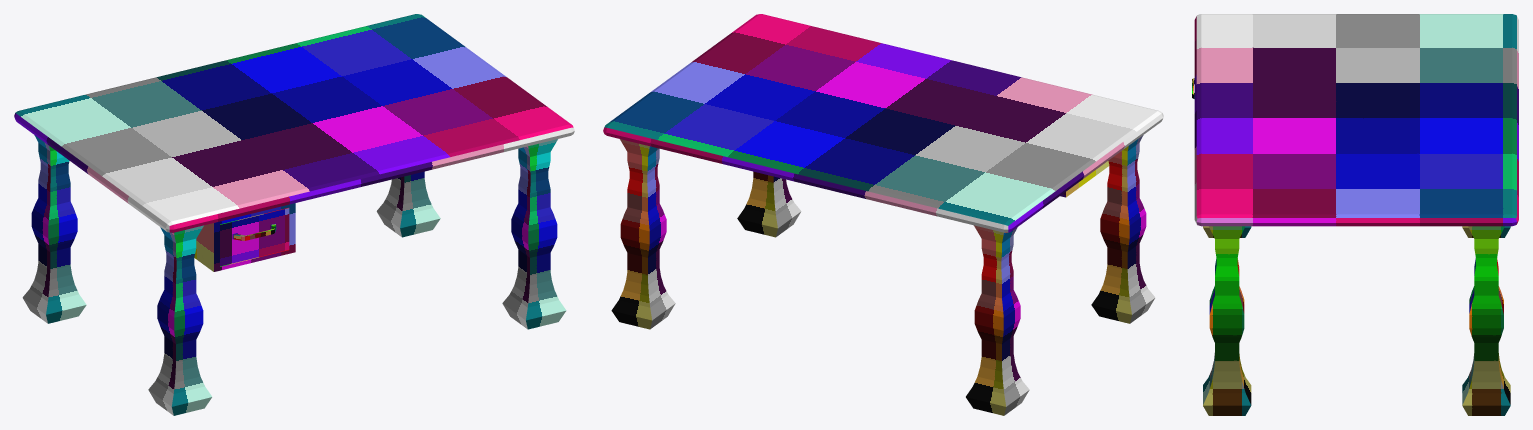
File: Tavolo_Nuovo_UV.fbx
The picture shows the model from 3 angles, left to right: view 1: azimuth 30°, elevation 25°; view 2: azimuth 150°, elevation 25°; view 3: azimuth 270°, elevation 25°; orthographic projection. The views are drawn at different scales.
Parts seen in each view (by area): view 1: Piano, Gamba, Gamba.004, Gamba.002, Cassetto, Gamba.003, Contenitore; view 2: Piano, Gamba.002, Gamba.003, Gamba, Gamba.004; view 3: Piano, Gamba.004, Gamba.003.
Boxes of the visible parts, left/top/right/bottom form: Piano: left=14, top=14, right=574, bottom=232; Gamba: left=148, top=225, right=211, bottom=415; Gamba.004: left=502, top=139, right=566, bottom=329; Gamba.002: left=22, top=135, right=86, bottom=323; Cassetto: left=220, top=207, right=289, bottom=266; Gamba.003: left=376, top=171, right=440, bottom=237; Contenitore: left=194, top=203, right=295, bottom=271; Piano: left=603, top=14, right=1163, bottom=232; Gamba.002: left=966, top=225, right=1029, bottom=415; Gamba.003: left=611, top=139, right=675, bottom=329; Gamba: left=1091, top=135, right=1155, bottom=323; Gamba.004: left=737, top=171, right=801, bottom=237; Piano: left=1194, top=14, right=1518, bottom=226; Gamba.004: left=1203, top=226, right=1251, bottom=415; Gamba.003: left=1462, top=226, right=1510, bottom=415.
Size of the model in its own units: 150 by 69.73 by 101.
